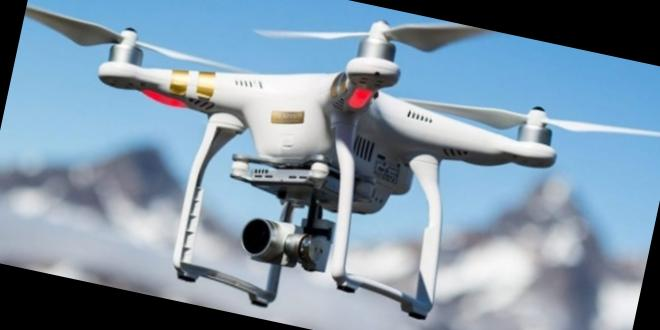drone: (11, 0, 639, 270)
